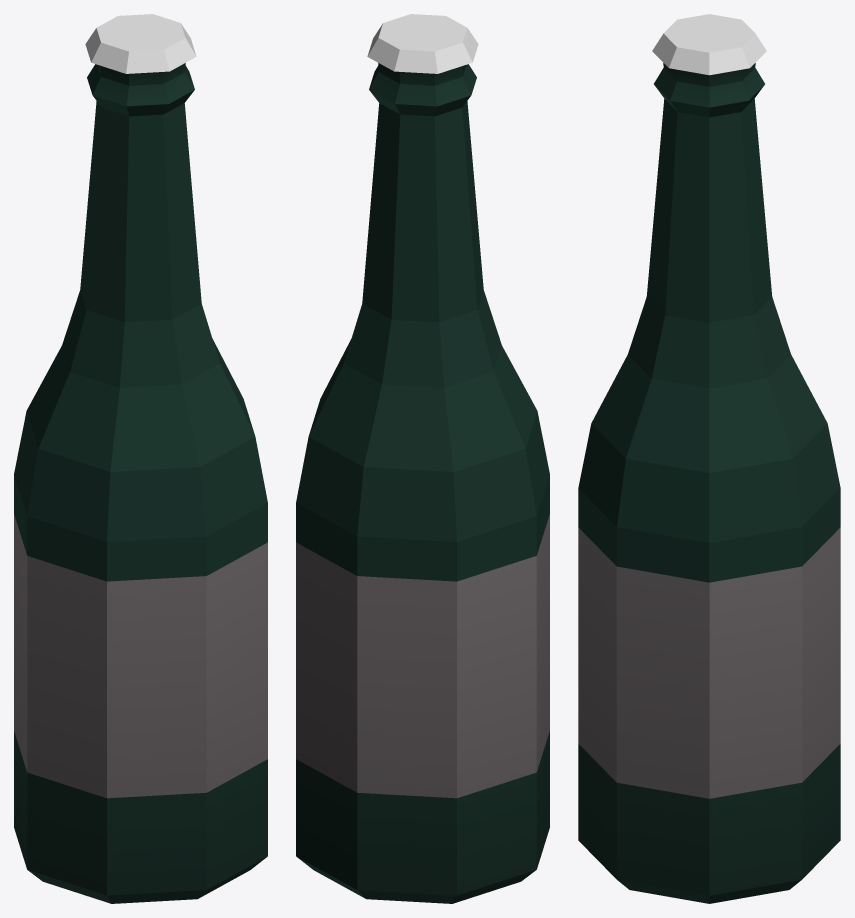
File: pq_bouteille_verte.glb
3 views of the same model, side by side, from view 1: azimuth 30°, elevation 25°; view 2: azimuth 150°, elevation 25°; view 3: azimuth 270°, elevation 25° (orthographic).
Visible parts, largest first — view 1: Bottle1; view 2: Bottle1; view 3: Bottle1.
Boxes of the visible parts, left/top/right/bottom form: Bottle1: left=14, top=14, right=267, bottom=903; Bottle1: left=296, top=14, right=549, bottom=903; Bottle1: left=578, top=14, right=840, bottom=903.
Bounding box in the file's own units: 0.0858 × 0.2971 × 0.0858.
